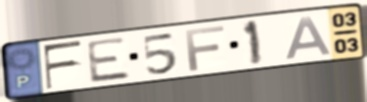1: (240, 18, 266, 68)
5: (141, 30, 180, 77)
A: (283, 14, 335, 61)
E: (84, 35, 134, 85)
F: (41, 39, 86, 92), (183, 24, 227, 73)
